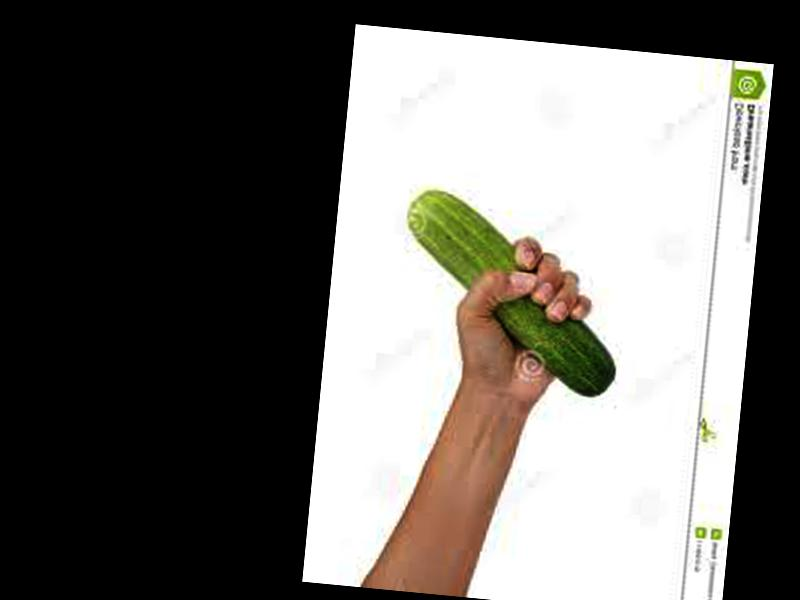Cucumber: (393, 188, 631, 403)
